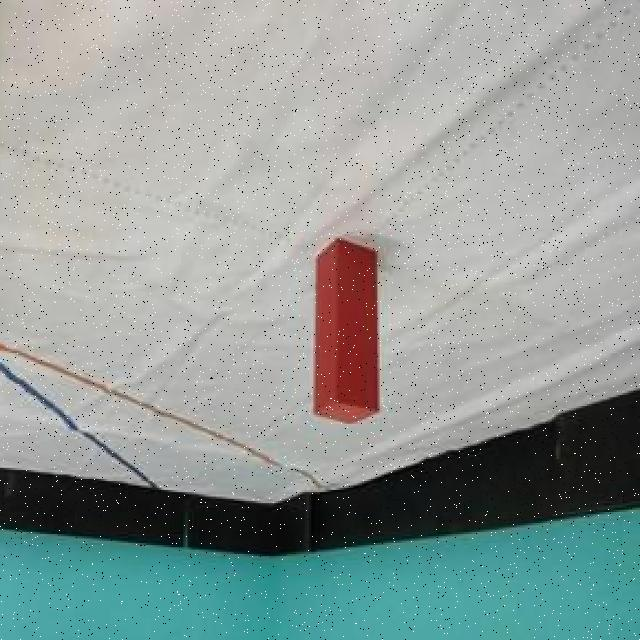redbox: (316, 241, 382, 428)
